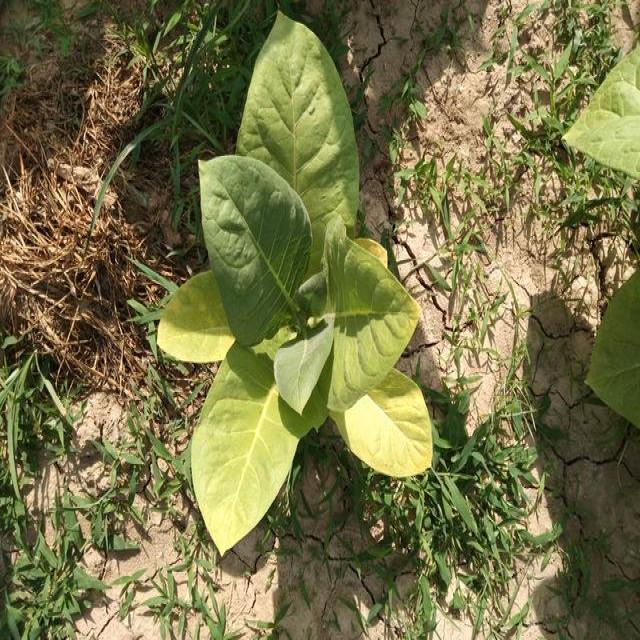crop: (155, 17, 447, 554)
